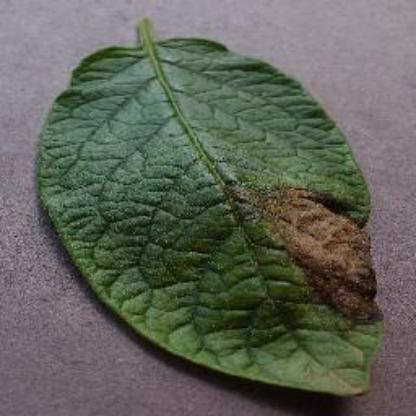Late-Blight: (29, 17, 388, 404)
